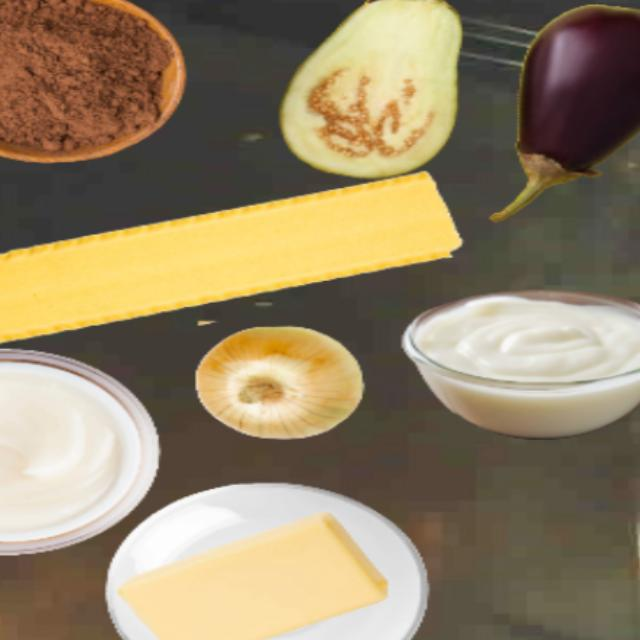Cocoa: (0, 0, 172, 153)
